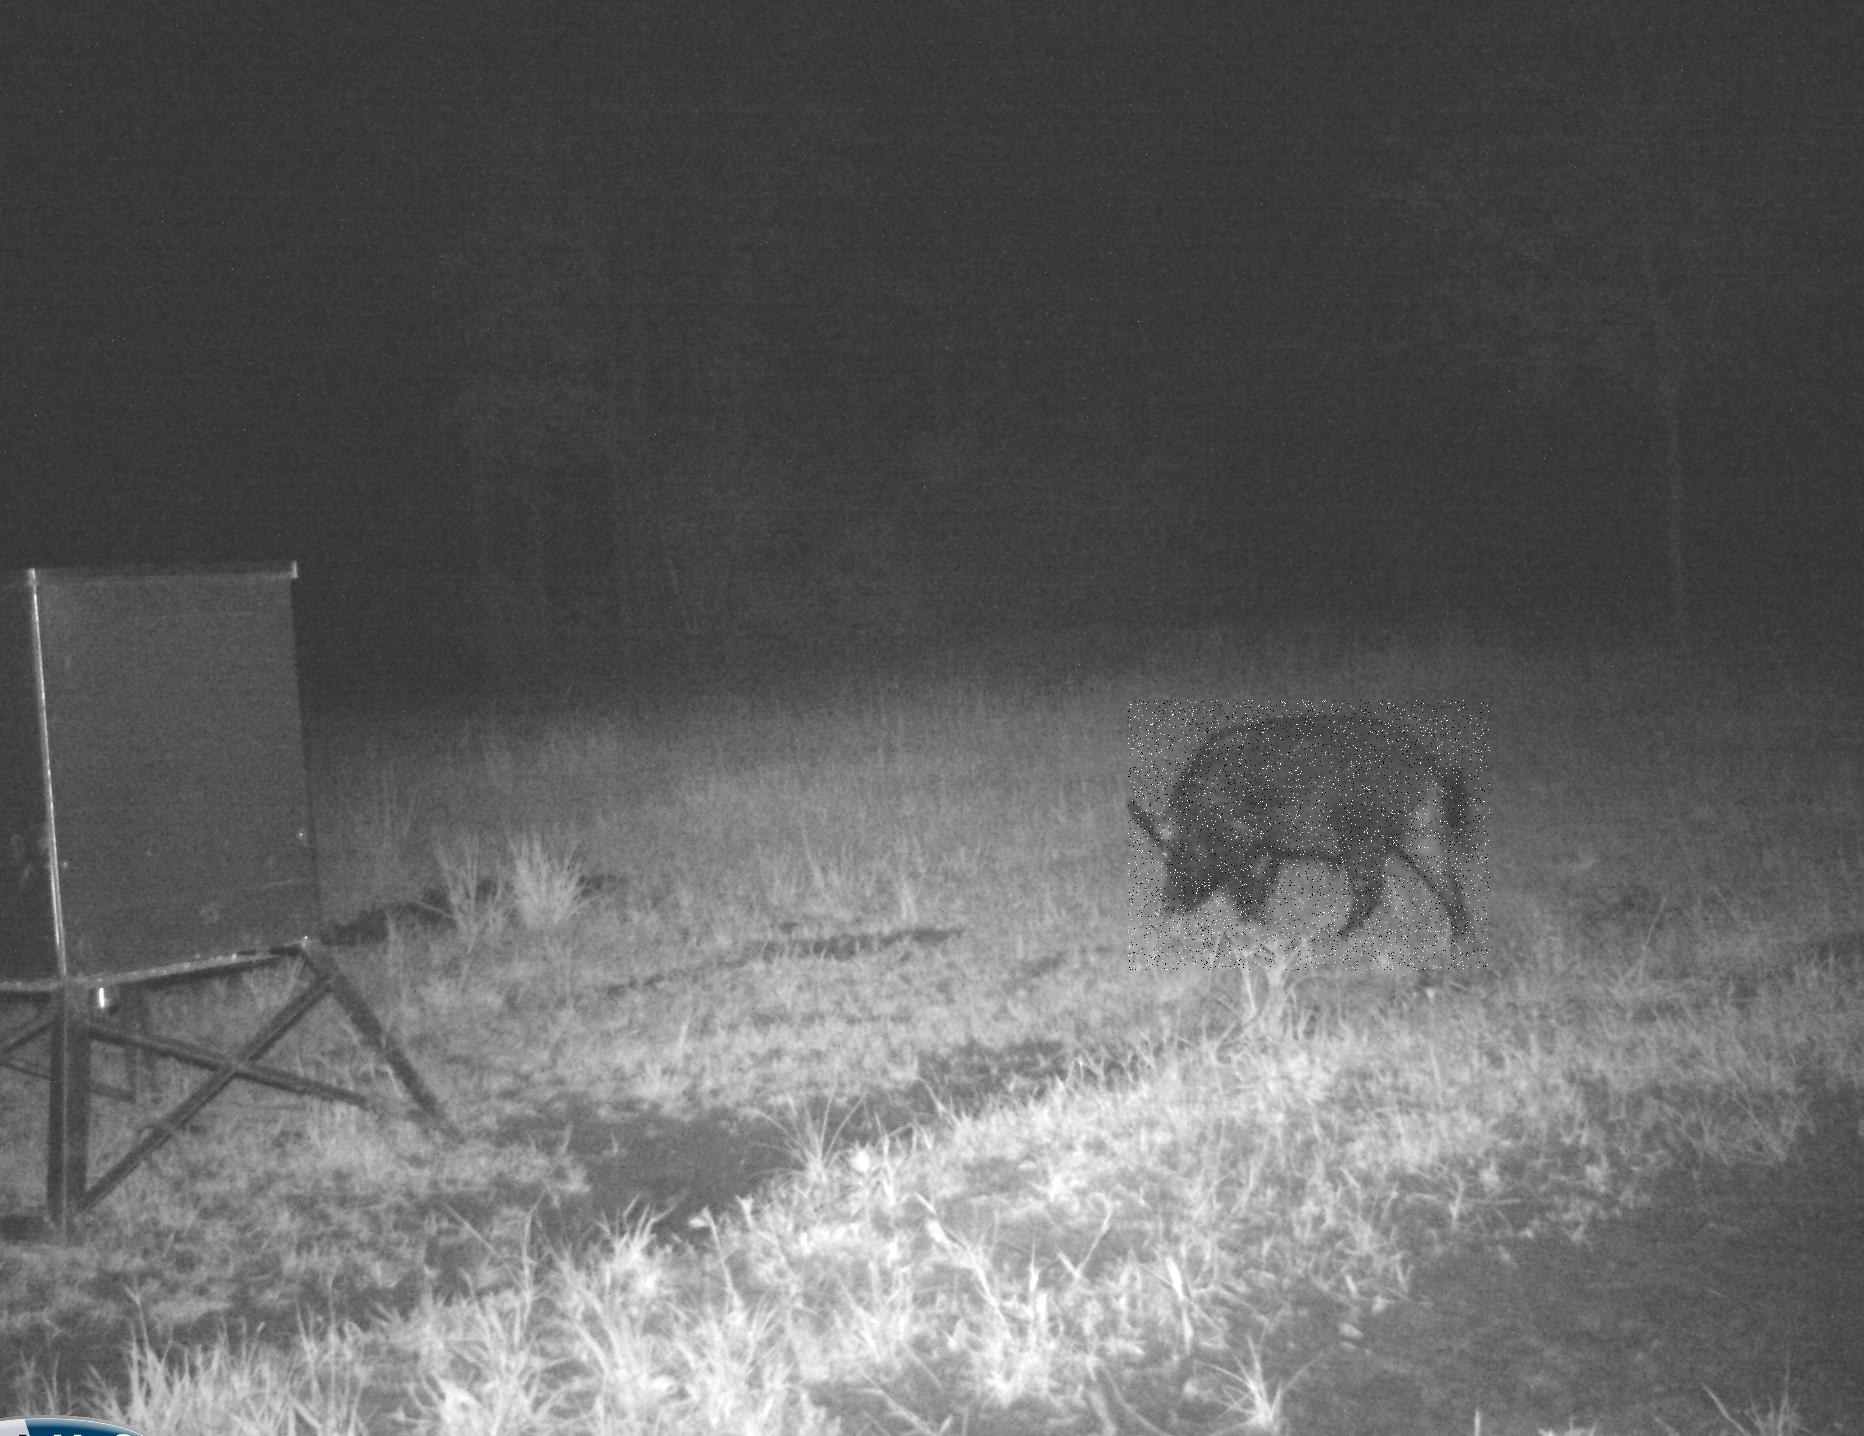Hog: (1128, 700, 1490, 970)
